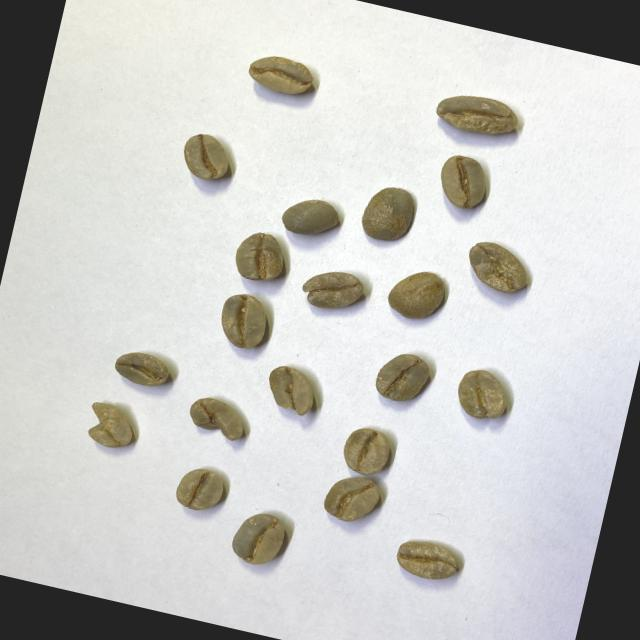bad: (432, 86, 524, 144), (460, 238, 538, 298), (296, 260, 367, 318), (245, 50, 318, 103), (181, 392, 252, 446), (260, 360, 322, 420), (82, 397, 142, 455)
good: (225, 506, 292, 572), (356, 179, 421, 246), (384, 262, 452, 326), (431, 150, 496, 214), (228, 226, 292, 290), (369, 346, 433, 408), (213, 288, 273, 354), (391, 534, 465, 586), (452, 364, 516, 424), (319, 470, 383, 528), (276, 190, 342, 244), (337, 420, 394, 480), (179, 129, 236, 185), (171, 462, 230, 516), (110, 345, 172, 392)
